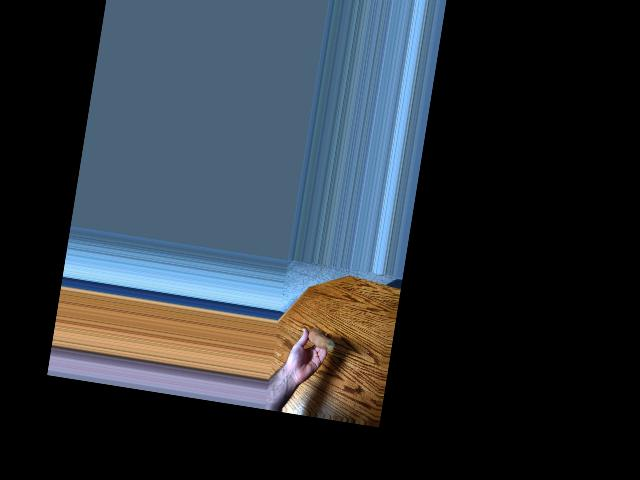sweet_potato: (303, 330, 336, 353)
